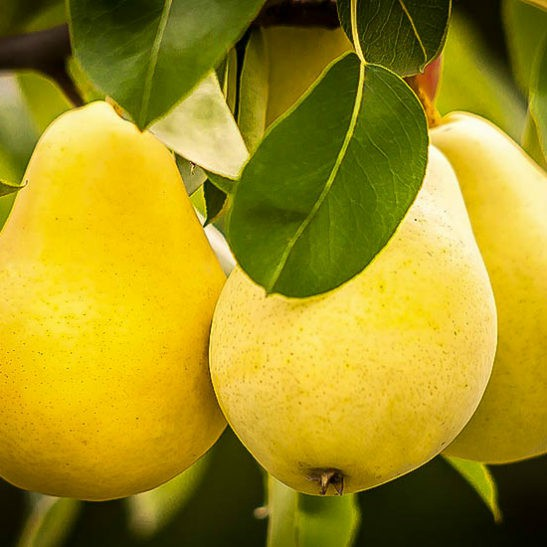pear: (209, 141, 496, 499), (1, 101, 236, 501), (406, 110, 547, 462)
